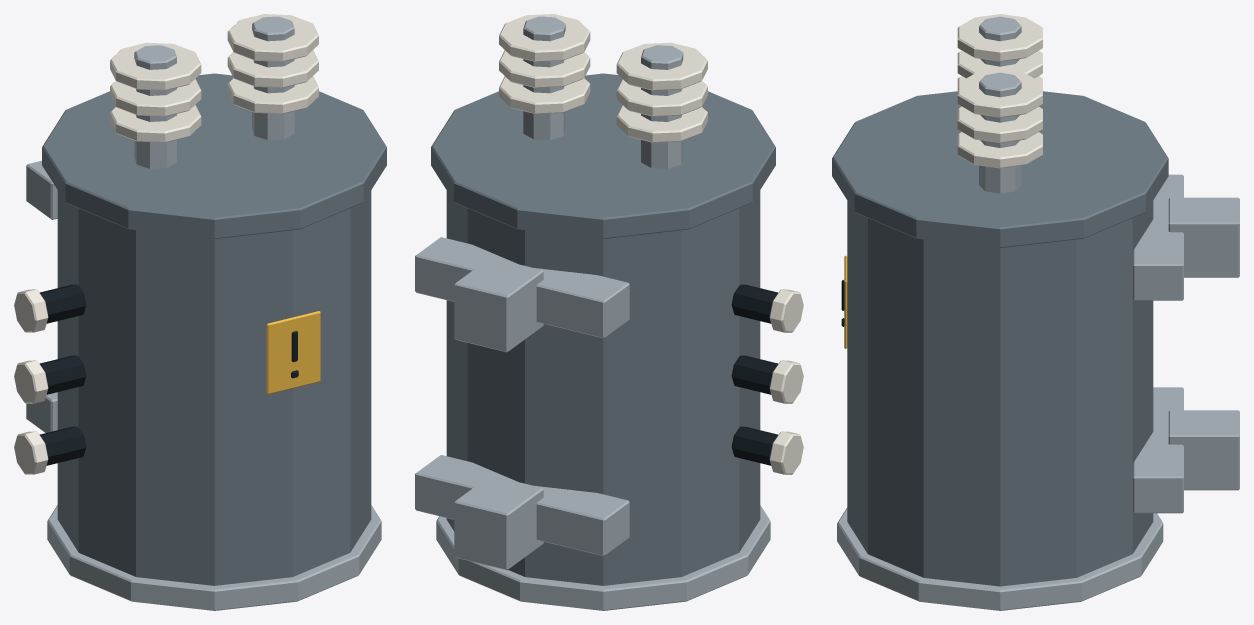
File: b05_polemount_transformer_can.glb
3 views of the same model, side by side, from view 1: azimuth 30°, elevation 25°; view 2: azimuth 150°, elevation 25°; view 3: azimuth 270°, elevation 25° (orthographic). The views are drawn at different scales.
Parts seen in each view (by area): view 1: b05_polemount_transformer_can; view 2: b05_polemount_transformer_can; view 3: b05_polemount_transformer_can.
Boxes of the visible parts, x1,y1,x2,y2 form: b05_polemount_transformer_can: (14,14,386,610); b05_polemount_transformer_can: (415,14,803,610); b05_polemount_transformer_can: (832,14,1239,610).
Size of the model in its own units: 0.75 by 1.06 by 0.8.
